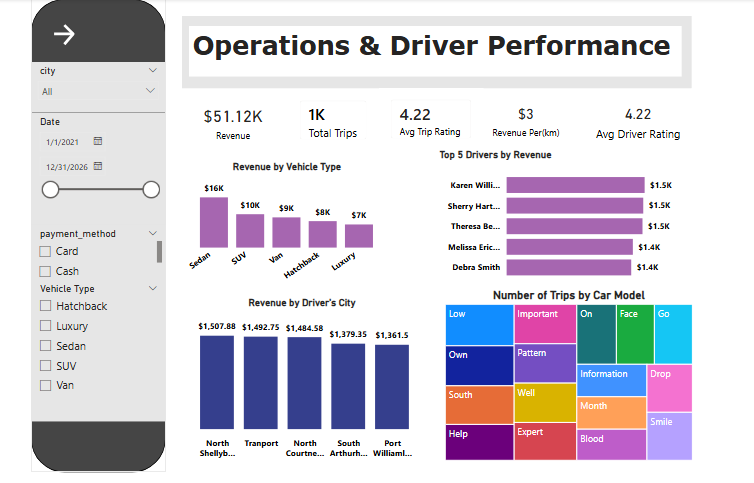

This screenshot's page, from the dashboard's own definition file:
{"tool":"powerbi","page":{"name":"Operations & Driver Performance","canvas":[1280,720],"ordinal":1},"visuals":[{"type":"shape","box":[270,24.3,745.7,105.7],"z":0},{"type":"textbox","box":[281.4,40,721.4,74.3],"z":1000},{"type":"clusteredBarChart","title":"Top 5 Drivers by Revenue","fields":{"Y":["-Measures.Revenue"],"Category":["dim_drivers.full_name"]},"box":[642.9,220,360,202.9],"z":2000},{"type":"clusteredColumnChart","title":"Revenue by Vehicle Type","fields":{"Category":["dim_vehicles.vehicle_type"],"Y":["-Measures.Revenue"]},"box":[271.4,237.1,307.1,185.7],"z":3000},{"type":"treemap","title":"Number of Trips by Car Model","fields":{"Group":["dim_vehicles.model"],"Values":["CountNonNull(fact_trips.trip_id)"]},"box":[651.4,422.9,371.4,257.1],"z":4000},{"type":"clusteredColumnChart","title":"Revenue by Driver''s City","fields":{"Category":["dim_drivers.city"],"Y":["-Measures.Revenue"]},"box":[257.6,436.1,377.6,244.4],"z":5000},{"type":"shape","box":[50,0,197.1,692.9],"z":6000},{"type":"slicer","fields":{"Values":["dim_vehicles.vehicle_type"]},"box":[50,411.4,197.1,207.1],"z":7000},{"type":"slicer","fields":{"Values":["dim_customers.city"]},"box":[50,92.9,197.1,74.3],"z":8000},{"type":"slicer","fields":{"Values":["dim_date.date_day"]},"box":[50,167.1,197.1,162.9],"z":9000},{"type":"actionButton","box":[77.1,32.9,100,40],"z":10000},{"type":"card","fields":{"Values":["-Measures.Avg Driver Rating"]},"box":[860,134.3,155.7,85.7],"z":11000},{"type":"cardVisual","fields":{"Data":["-Measures.Total Trips"]},"box":[425.7,131.4,132.9,91.4],"z":12000},{"type":"card","fields":{"Values":["-Measures.Revenue"]},"box":[291.4,140,108.6,78.6],"z":13000},{"type":"cardVisual","fields":{"Data":["-Measures.Avg Trip Rating"]},"box":[558.6,130,152.9,91.4],"z":14000},{"type":"card","fields":{"Values":["-Measures.Revenue Per(km)"]},"box":[711.4,135.7,125.7,78.6],"z":15000},{"type":"slicer","fields":{"Values":["fact_payments.payment_method"]},"box":[50,330,197.1,81.4],"z":16000}]}

Visuals, with their boxes on the page's 1280x720 design canvas (x1, y1, x2, y2). These are canvas units, not pixel positions in the 754x483 screenshot, which may show the page scaled, cropped or inside an application window:
shape: (270, 24, 1016, 130)
textbox: (281, 40, 1003, 114)
"Top 5 Drivers by Revenue" clusteredBarChart: (643, 220, 1003, 423)
"Revenue by Vehicle Type" clusteredColumnChart: (271, 237, 578, 423)
"Number of Trips by Car Model" treemap: (651, 423, 1023, 680)
"Revenue by Driver''s City" clusteredColumnChart: (258, 436, 635, 680)
shape: (50, 0, 247, 693)
slicer - dim_vehicles.vehicle_type: (50, 411, 247, 618)
slicer - dim_customers.city: (50, 93, 247, 167)
slicer - dim_date.date_day: (50, 167, 247, 330)
actionButton: (77, 33, 177, 73)
card - -Measures.Avg Driver Rating: (860, 134, 1016, 220)
cardVisual - -Measures.Total Trips: (426, 131, 559, 223)
card - -Measures.Revenue: (291, 140, 400, 219)
cardVisual - -Measures.Avg Trip Rating: (559, 130, 712, 221)
card - -Measures.Revenue Per(km): (711, 136, 837, 214)
slicer - fact_payments.payment_method: (50, 330, 247, 411)
